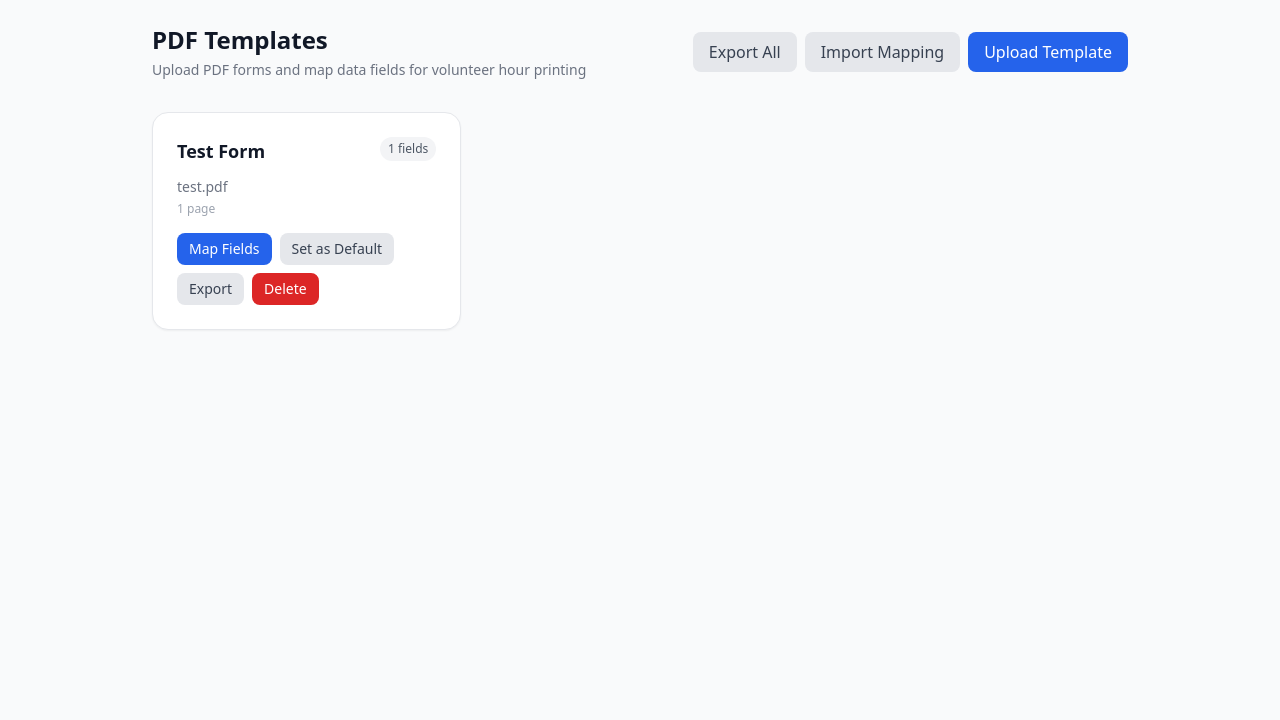
Test: PdfTemplatesPage › field mapper modal › should allow editing custom columns on a placed detail table
Click the button "Map Fields": (224, 249) [177, 233, 272, 265]
(page scrolled)
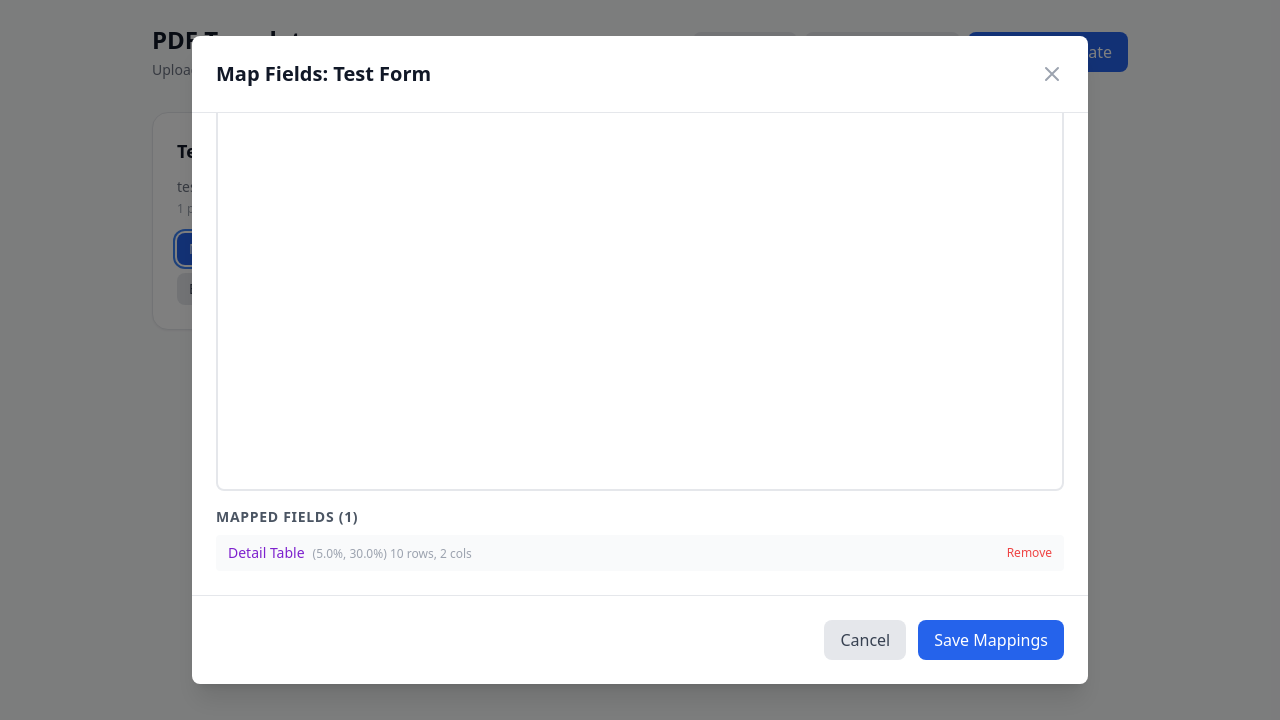
Click the text "Detail Table": (266, 553) [228, 543, 304, 562]
(page scrolled)
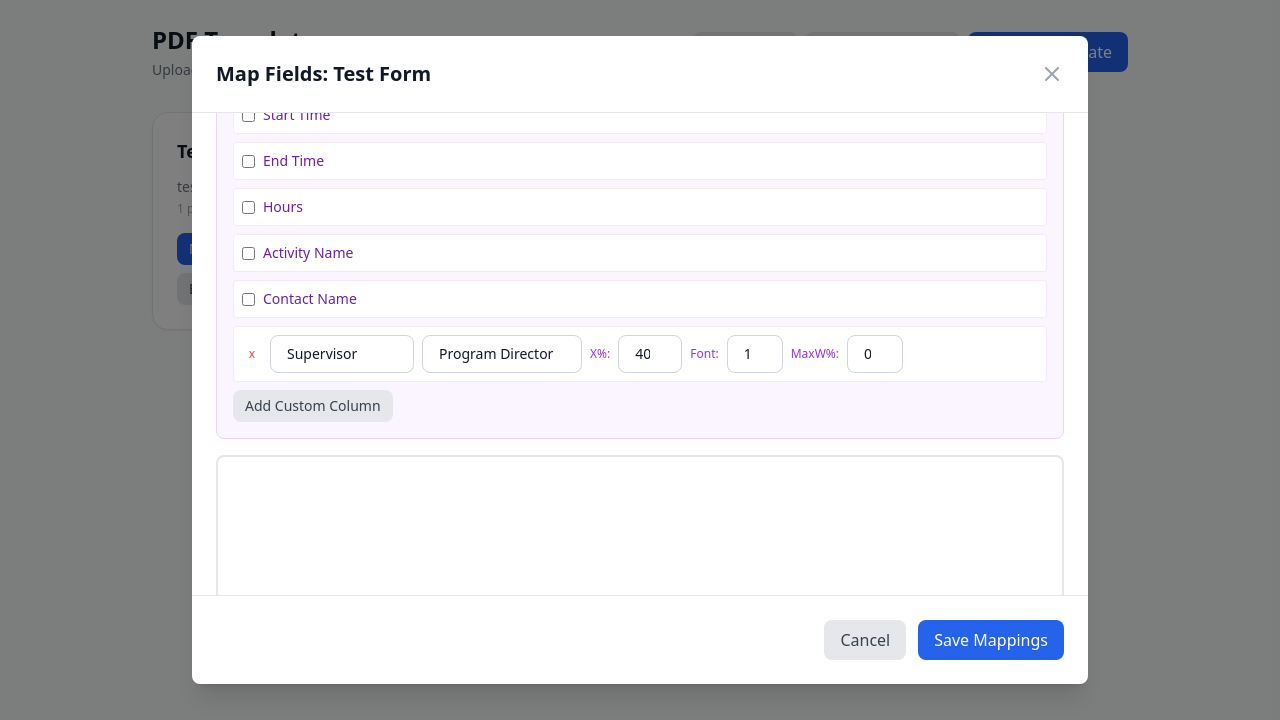
Expected: the 1st field showing "Supervisor" is shown, [270, 335, 414, 373]
Expected: the 2nd field showing "Program Director" is shown, [422, 335, 582, 373]
